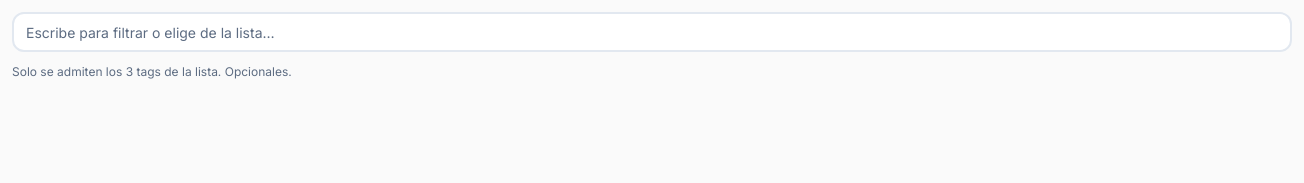
Test: TagPicker › shows all options when focused with no query
Click the dropdown: (652, 32) [12,12,1292,52]
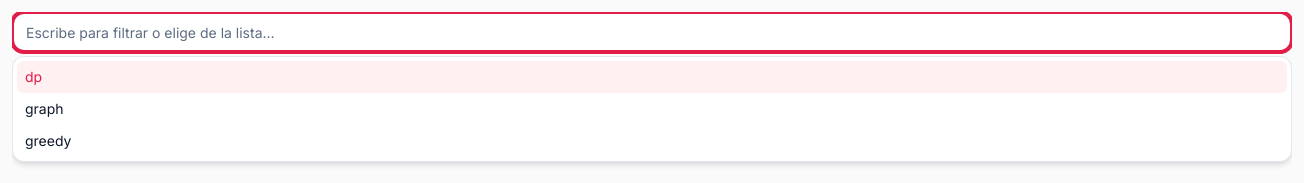
Expected: the option "graph" is shown, [25,100,64,117]
Expected: the option "dp" is shown, [17,61,1287,93]
Expected: the option "greedy" is shown, [25,132,72,149]
